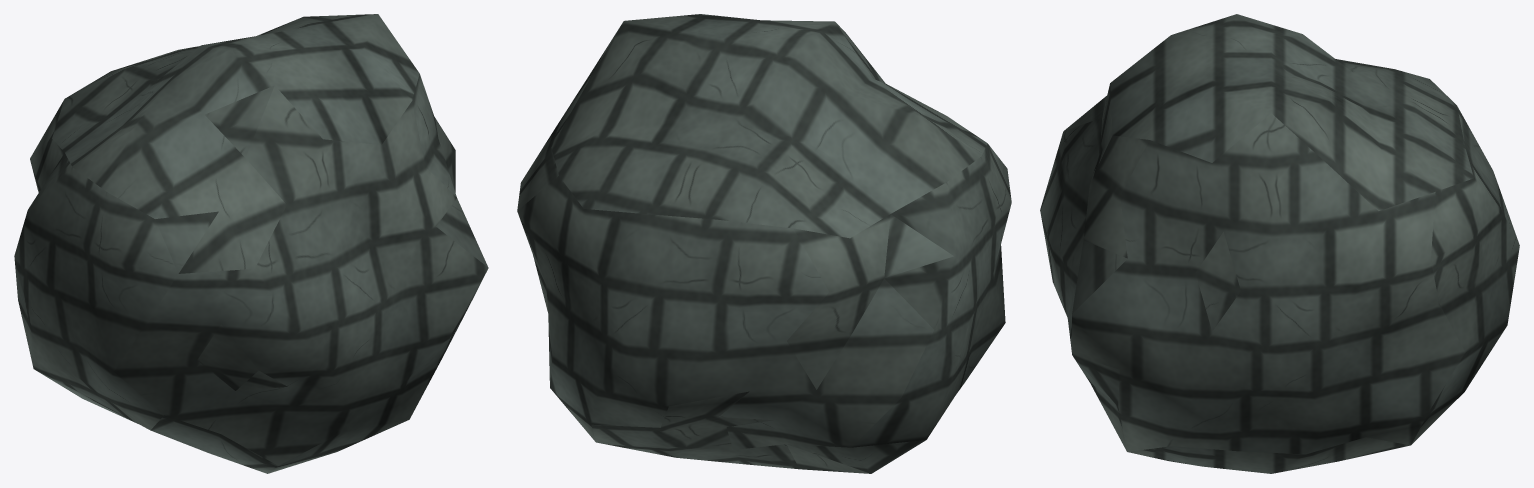
Rendered from kit_rock.glb.
3 renders of one model, left to right at view 1: azimuth 30°, elevation 25°; view 2: azimuth 150°, elevation 25°; view 3: azimuth 270°, elevation 25°, orthographic. The views are drawn at different scales.
Parts seen in each view (by area): view 1: kit_rock; view 2: kit_rock; view 3: kit_rock.
Part boxes in pixels (x1,y1,x2,y2): kit_rock: (14,14,488,473); kit_rock: (517,14,1011,473); kit_rock: (1040,14,1519,473).
Bounding box in the file's own units: 2 × 2 × 2.
Materials: 1 (1 with a texture image).
